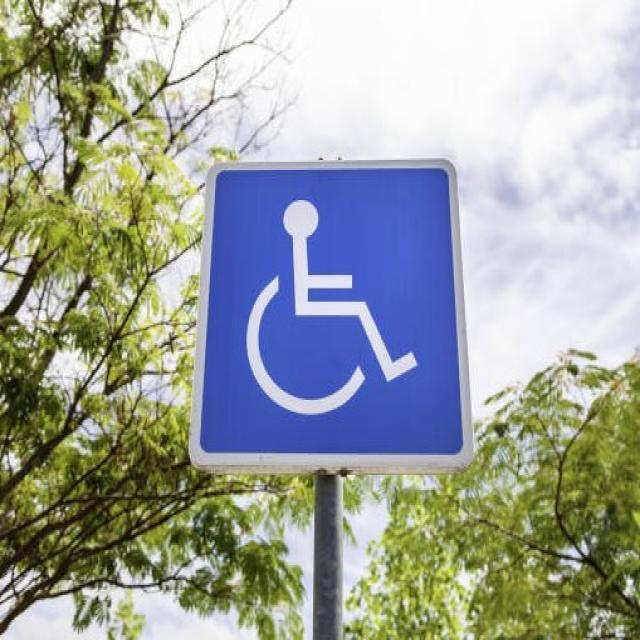symbol_of_access: (187, 156, 473, 475)
